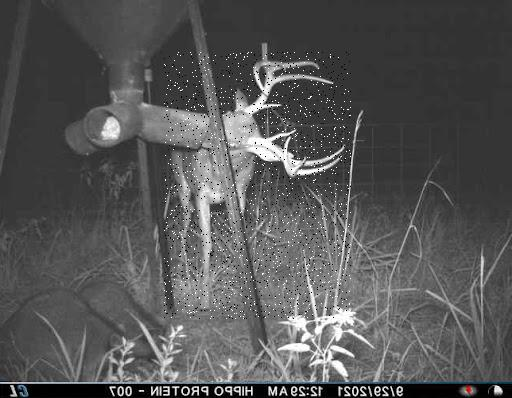Deer: (164, 52, 351, 319)
